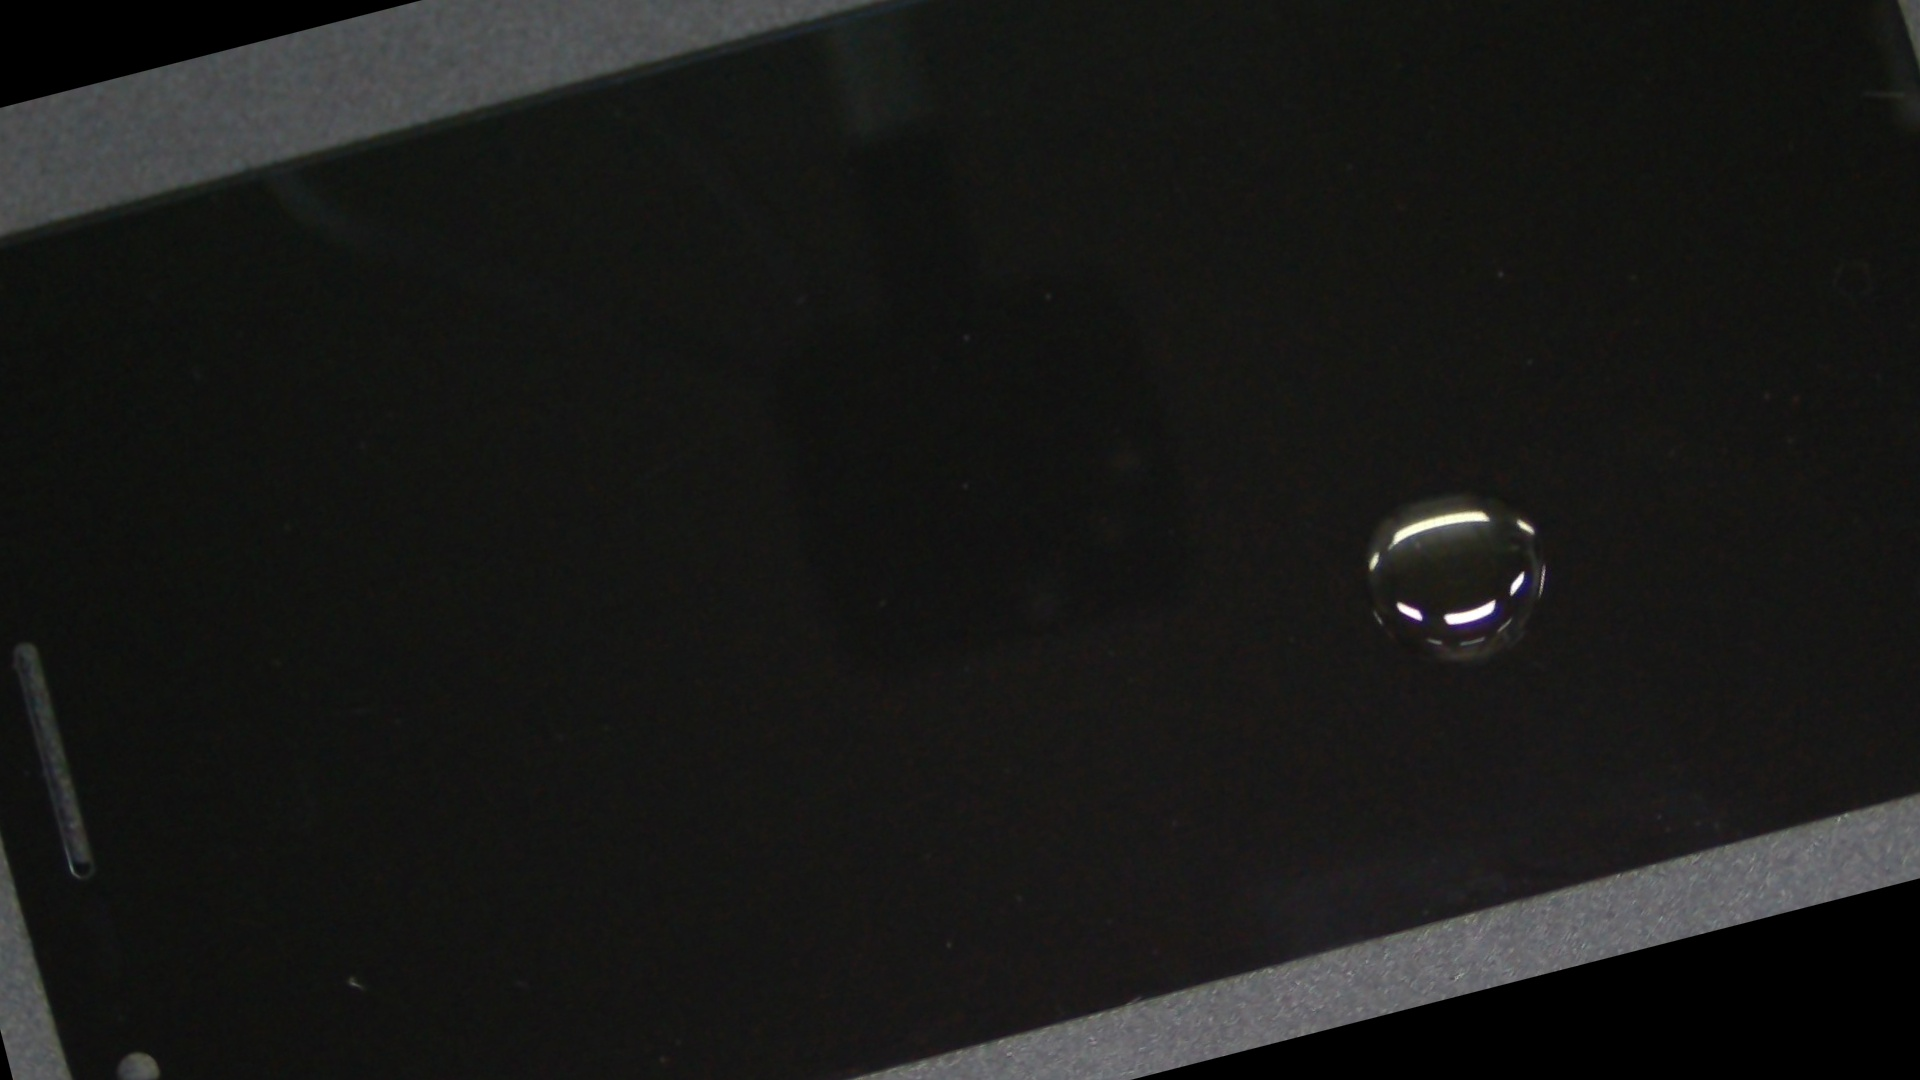oil: (600, 0, 1920, 1042)
